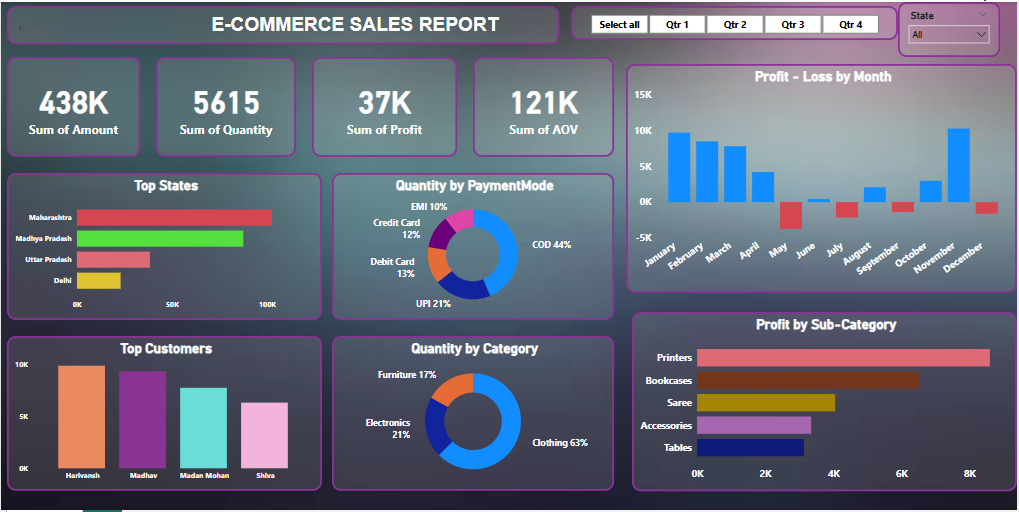

The page's visual inventory and layout, read from the dashboard file:
{"tool":"powerbi","page":{"name":"Page 1","canvas":[1700,850],"ordinal":0},"visuals":[{"type":"textbox","box":[10,6.7,923.6,63.6],"z":0},{"type":"columnChart","title":"Profit - Loss by Month","fields":{"Category":["Orders.Order Date.Variation.Date Hierarchy.Month"],"Y":["Details.Profit"]},"box":[1045.8,103.7,654.2,383.2],"z":1000},{"type":"barChart","title":"Profit by Sub-Category","fields":{"Category":["Details.Sub-Category"],"Y":["Details.Profit"]},"box":[1055.8,518.7,644.2,299.5],"z":2000},{"type":"donutChart","title":"Quantity by Category","fields":{"Category":["Details.Category"],"Y":["Details.Quantity"]},"box":[553.8,558.9,471.9,259.4],"z":3000},{"type":"donutChart","title":"Quantity by PaymentMode","fields":{"Category":["Details.PaymentMode"],"Y":["Details.Quantity"]},"box":[553.8,286.1,471.9,246],"z":4000},{"type":"card","fields":{"Values":["Details.Amount"]},"box":[10,92,222.5,167.3],"z":5000},{"type":"card","fields":{"Values":["Details.Quantity"]},"box":[259.4,92,234.3,167.3],"z":6000},{"type":"card","fields":{"Values":["Details.Profit"]},"box":[520.4,92,242.6,167.3],"z":7000},{"type":"card","fields":{"Values":["Details.Average Order Value"]},"box":[789.8,92,235.9,167.3],"z":8000},{"type":"barChart","title":"Top States","fields":{"Category":["Orders.State"],"Y":["Details.Amount"]},"box":[10,286.1,527.1,246],"z":9000},{"type":"columnChart","title":"Top Customers","fields":{"Category":["Orders.CustomerName"],"Y":["Details.Amount"]},"box":[10,558.9,527.1,259.4],"z":10000},{"type":"slicer","fields":{"Values":["Orders.Order Date.Variation.Date Hierarchy.Quarter"]},"box":[953.7,6.7,547.1,56.9],"z":11000},{"type":"slicer","fields":{"Values":["Orders.State"]},"box":[1500.9,0,170.7,92],"z":12000}]}

Visuals, with their boxes in screenshot pixels (x1, y1, x2, y2), scaled from the page's 1700x850 canvas onto the 1019x512 screenshot:
textbox: {"x1": 6, "y1": 4, "x2": 560, "y2": 42}
"Profit - Loss by Month" columnChart: {"x1": 627, "y1": 62, "x2": 1018, "y2": 293}
"Profit by Sub-Category" barChart: {"x1": 633, "y1": 312, "x2": 1018, "y2": 493}
"Quantity by Category" donutChart: {"x1": 332, "y1": 337, "x2": 615, "y2": 493}
"Quantity by PaymentMode" donutChart: {"x1": 332, "y1": 172, "x2": 615, "y2": 321}
card - Details.Amount: {"x1": 6, "y1": 55, "x2": 139, "y2": 156}
card - Details.Quantity: {"x1": 155, "y1": 55, "x2": 296, "y2": 156}
card - Details.Profit: {"x1": 312, "y1": 55, "x2": 457, "y2": 156}
card - Details.Average Order Value: {"x1": 473, "y1": 55, "x2": 615, "y2": 156}
"Top States" barChart: {"x1": 6, "y1": 172, "x2": 322, "y2": 321}
"Top Customers" columnChart: {"x1": 6, "y1": 337, "x2": 322, "y2": 493}
slicer - Orders.Order Date.Variation.Date Hierarchy.Quarter: {"x1": 572, "y1": 4, "x2": 900, "y2": 38}
slicer - Orders.State: {"x1": 900, "y1": 0, "x2": 1002, "y2": 55}
